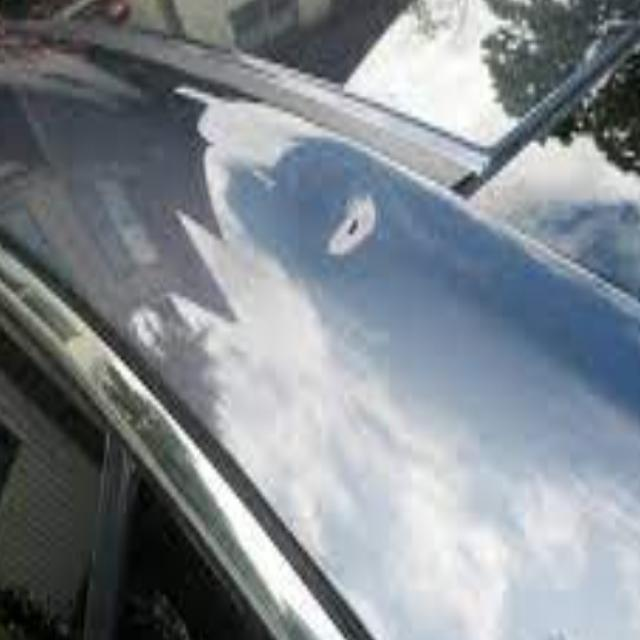dents: (322, 183, 387, 289)
